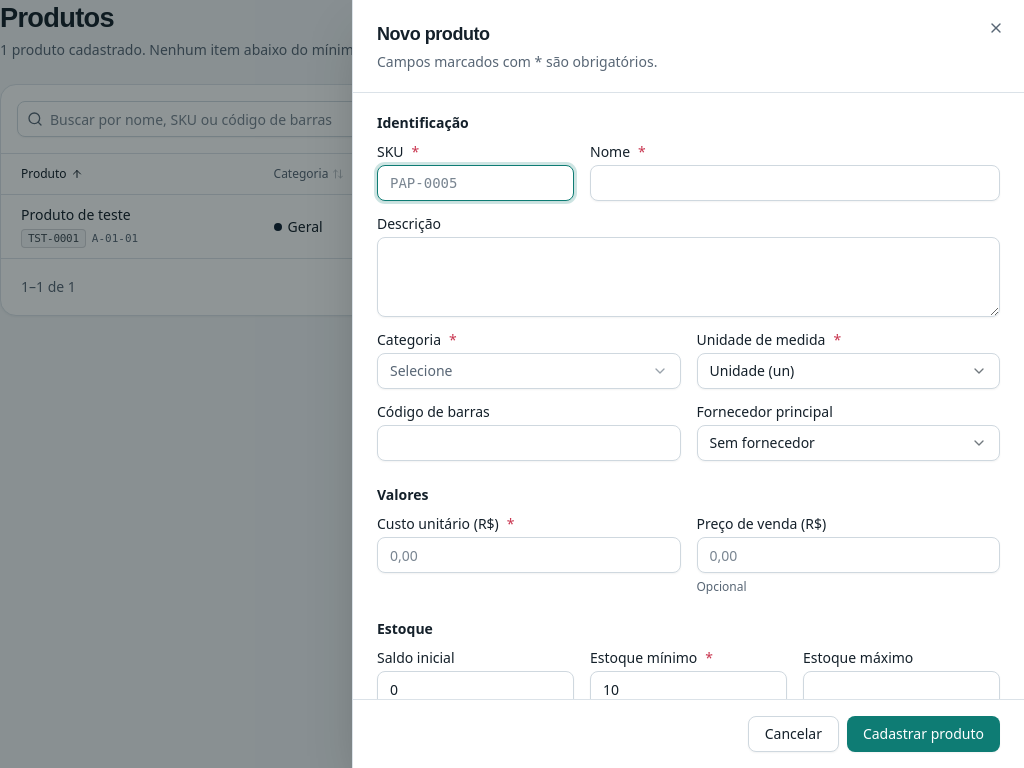
página de produtos › mostra erro no campo ao usar SKU duplicado e não grava
The image size is (1024, 768).
Type "tst-0001" into the field labelled "SKU *" at (476, 183), box 377,165 -> 574,201
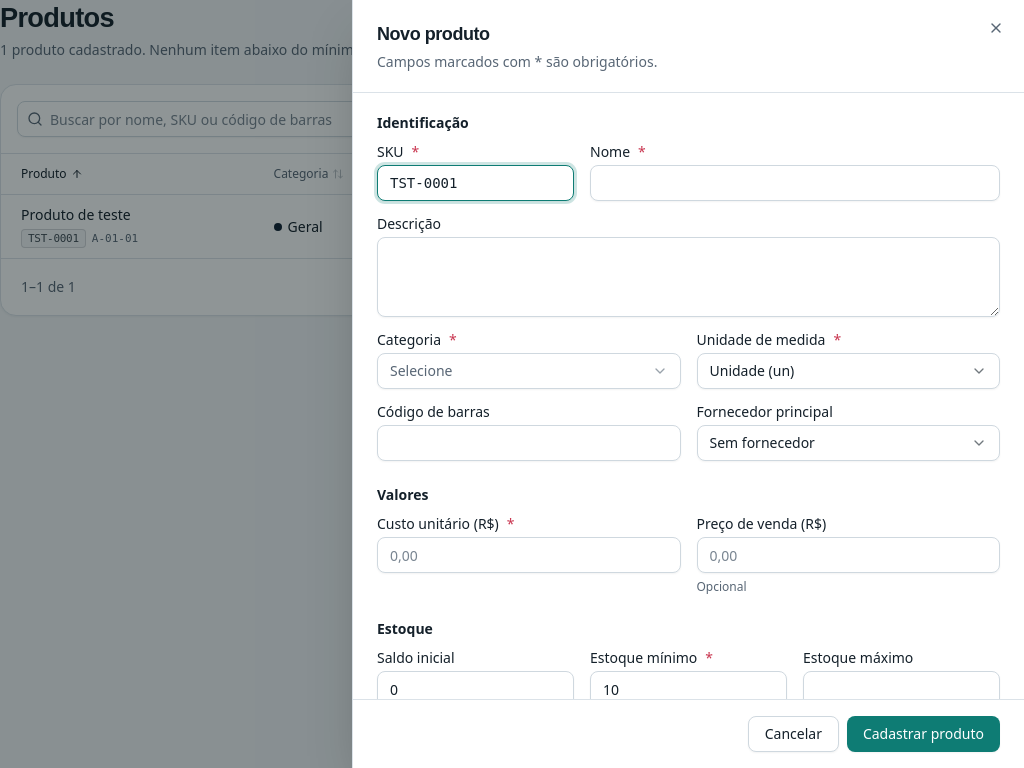
Type "Duplicado" into the field labelled "Nome *" at (795, 183), box 590,165 -> 1000,201
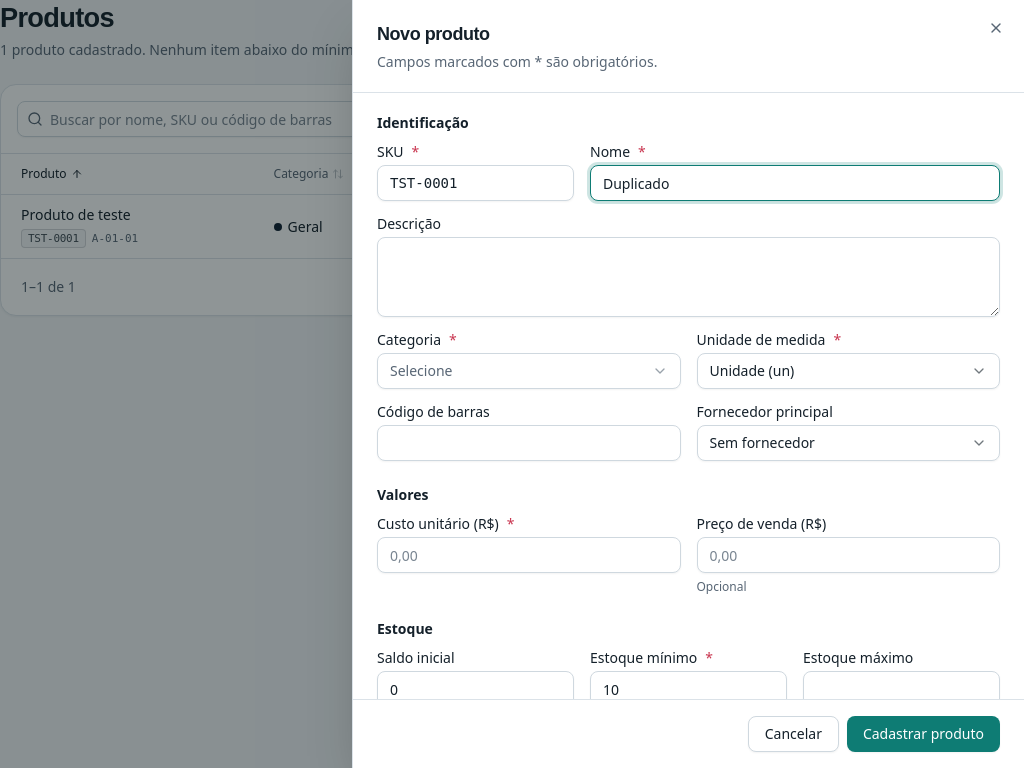
Click the dropdown named "Categoria" at (421, 370), box 377,353 -> 680,389
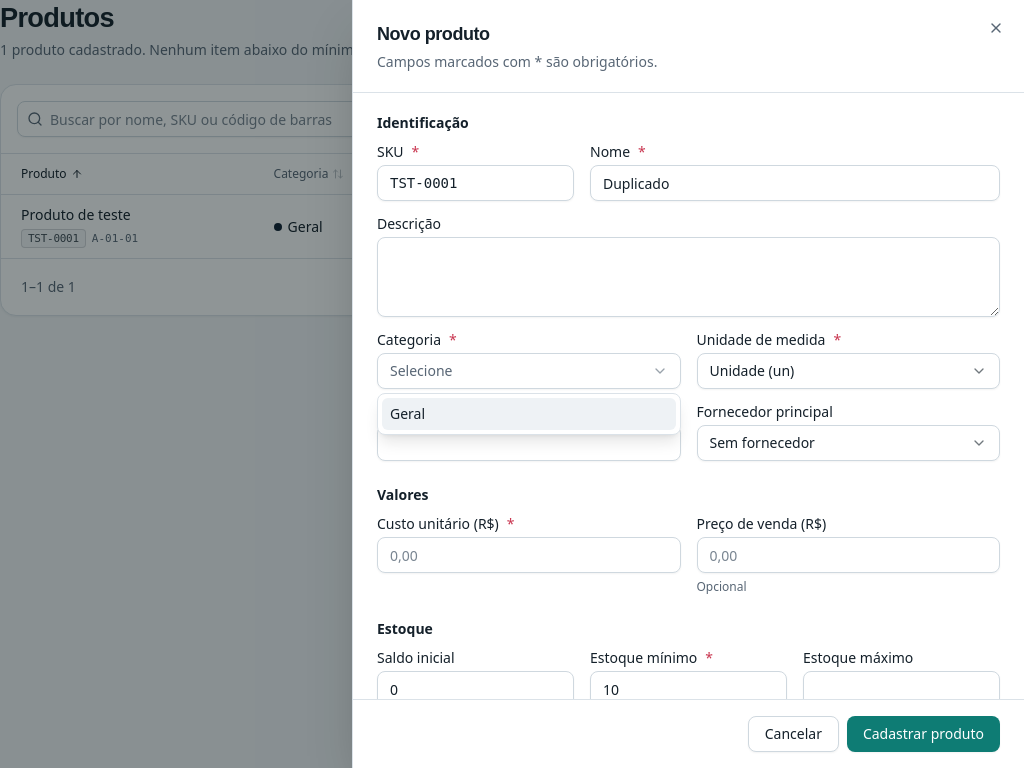
Click the option "Geral" at (408, 414), box 382,398 -> 676,430
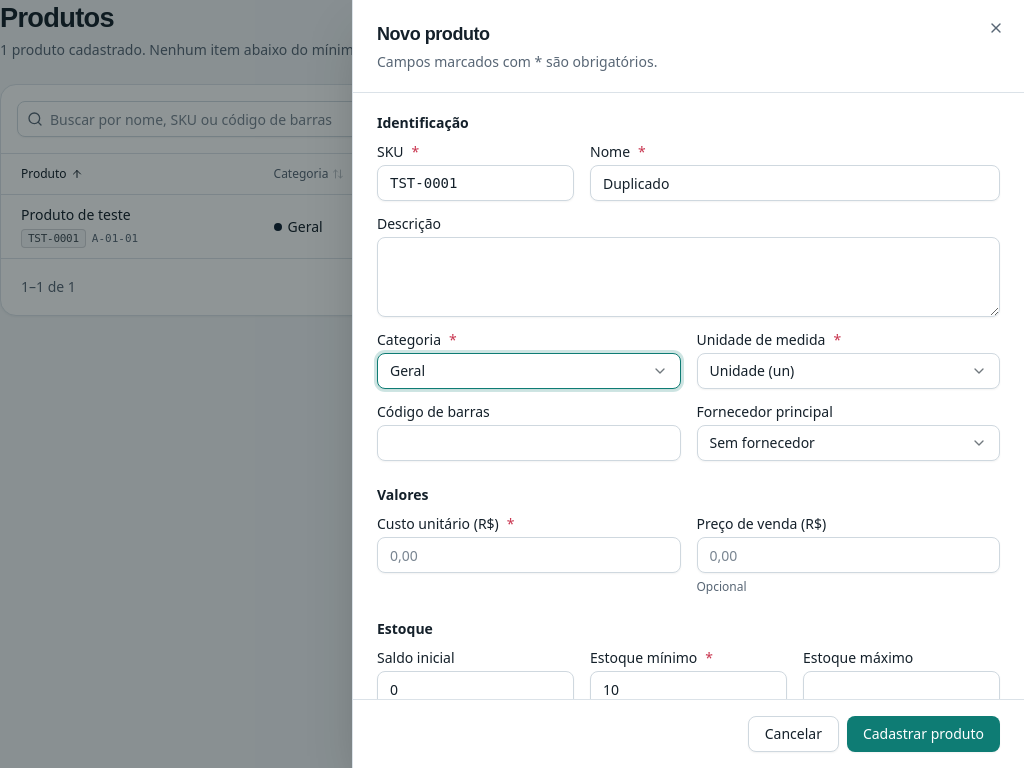
Type "1" into the field labelled "Custo unitário (R$) *" at (529, 555), box 377,537 -> 680,573
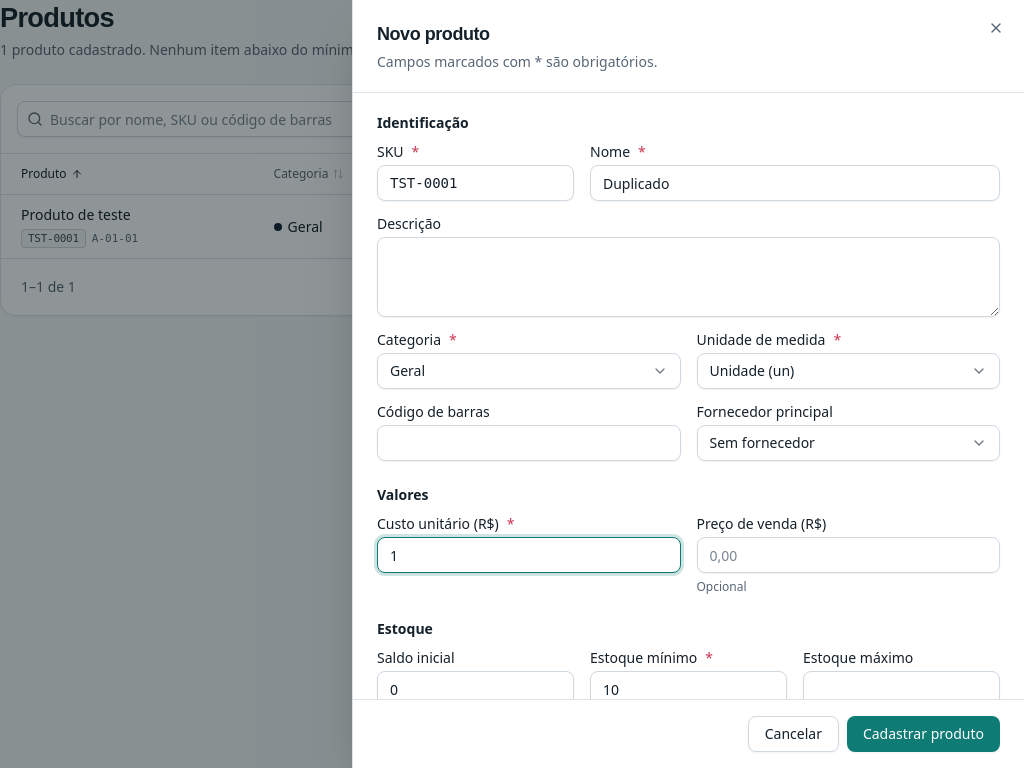
Click the button "Cadastrar produto" at (923, 734), box 847,716 -> 1000,752
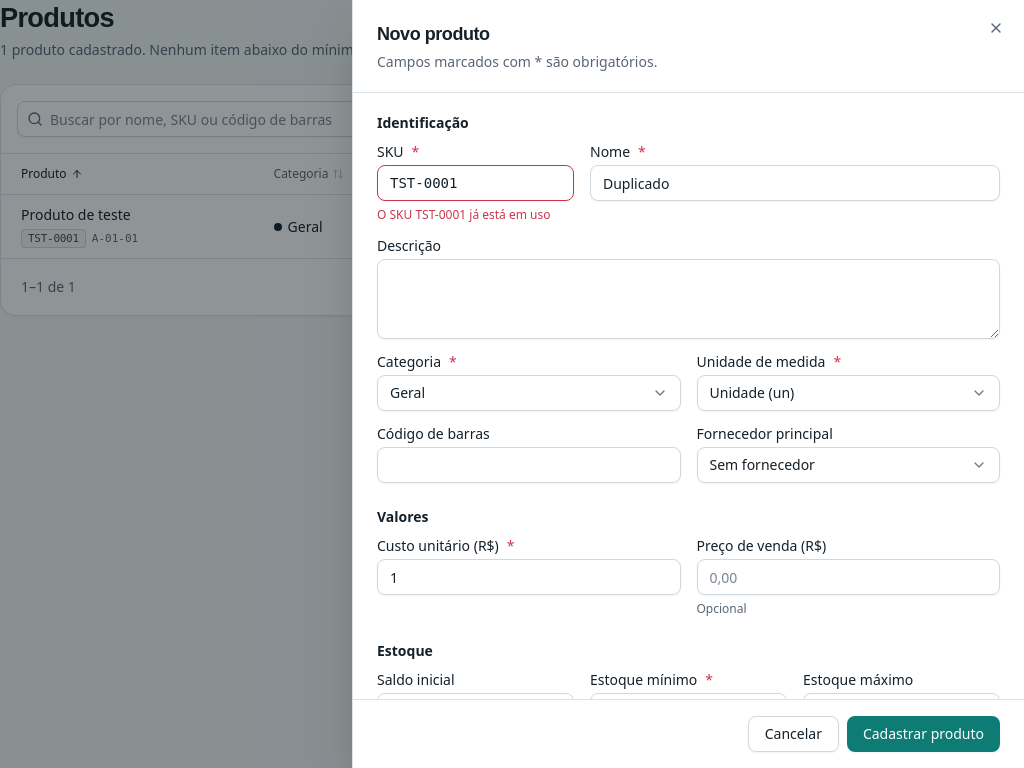
Now the text "O SKU TST-0001 já está em uso" is shown, box 377,207 -> 574,223
